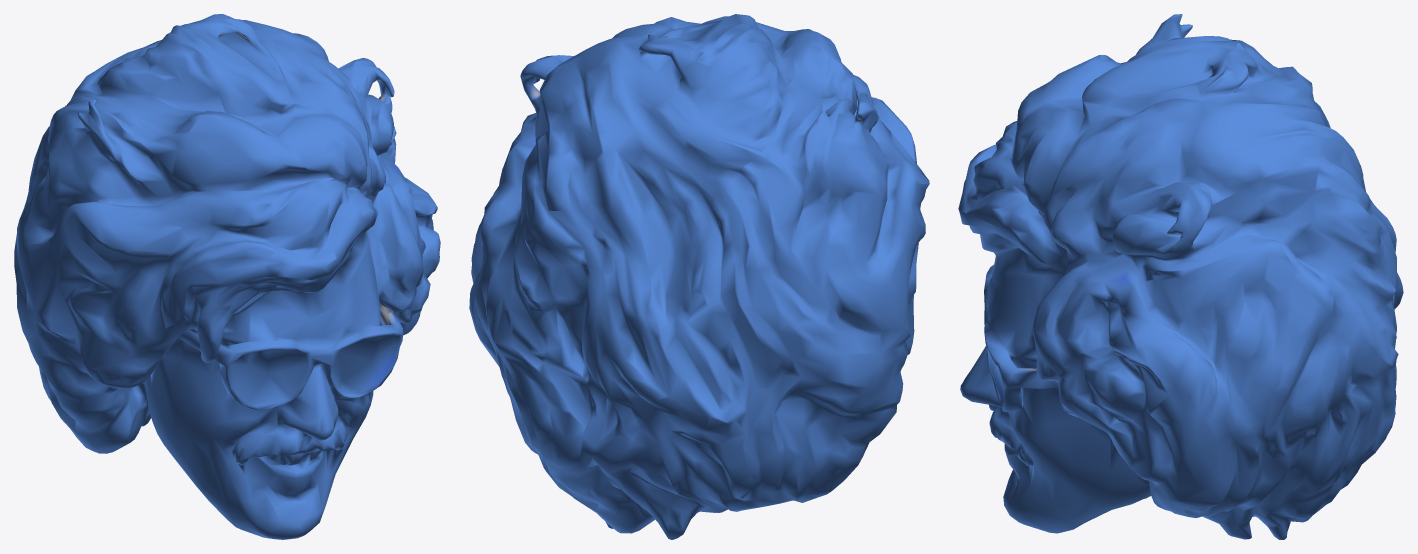
File: Beto_s2.glb
3 renders of one model, left to right at view 1: azimuth 30°, elevation 25°; view 2: azimuth 150°, elevation 25°; view 3: azimuth 270°, elevation 25°, orthographic. The views are drawn at different scales.
Bounding box in the file's own units: 1.51 × 1.68 × 1.42.
